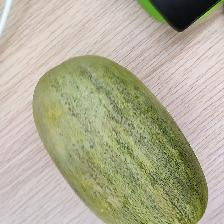gua: (29, 48, 209, 224)
